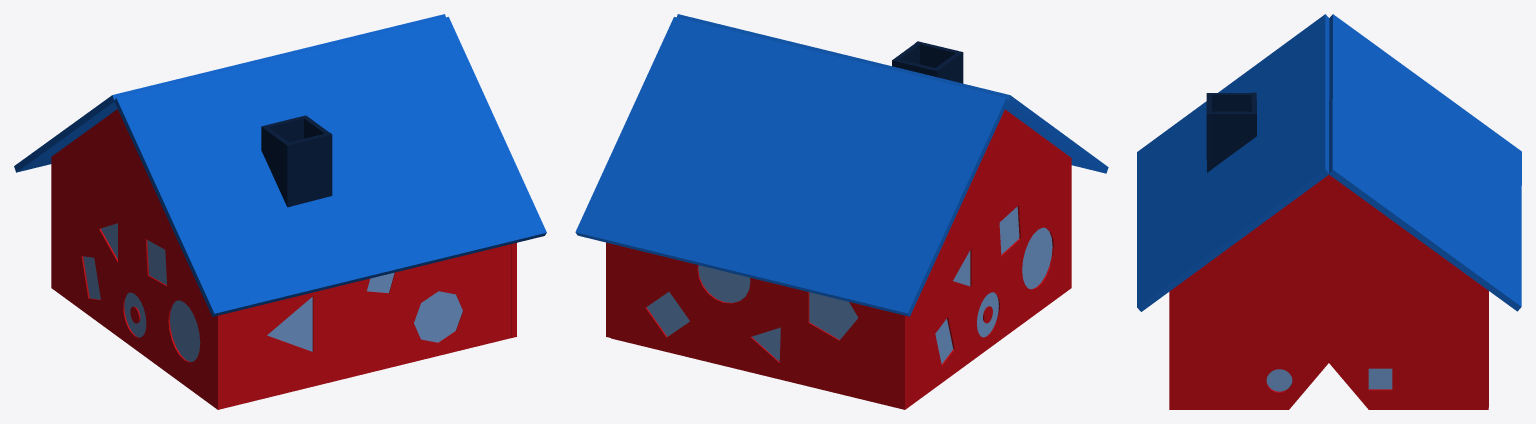
File: geometry_hus.obj
3 views of the same model, side by side, from view 1: azimuth 30°, elevation 25°; view 2: azimuth 150°, elevation 25°; view 3: azimuth 270°, elevation 25° (orthographic). The views are drawn at different scales.
Visible parts, largest first — view 1: tak_1, baksiden_av_huset, side_av_huset_2, Vindu2, Vindu, tak_2, røykpipe_2, røykpipe_1, røykpipe_4, fromt_av_huset; view 2: tak_2, baksiden_av_huset, side_av_huset_1, vindu5, Vindu, tak_1, røykpipe_2, røykpipe_1; view 3: fromt_av_huset, tak_2, tak_1, røykpipe_3, røykpipe_1, vindu4, røykpipe_2, vimdu3.
Part boxes in pixels (left/top/right/bottom): tak_1: left=114, top=17, right=546, bottom=316; baksiden_av_huset: left=51, top=109, right=223, bottom=409; side_av_huset_2: left=223, top=244, right=511, bottom=408; Vindu2: left=267, top=272, right=462, bottom=351; Vindu: left=83, top=223, right=200, bottom=361; tak_2: left=14, top=14, right=445, bottom=172; røykpipe_2: left=289, top=132, right=332, bottom=205; røykpipe_1: left=264, top=127, right=291, bottom=207; røykpipe_4: left=261, top=116, right=303, bottom=155; fromt_av_huset: left=511, top=243, right=516, bottom=337; tak_2: left=575, top=17, right=1008, bottom=316; baksiden_av_huset: left=899, top=109, right=1071, bottom=409; side_av_huset_1: left=611, top=244, right=899, bottom=408; vindu5: left=646, top=265, right=858, bottom=361; Vindu: left=935, top=206, right=1052, bottom=363; tak_1: left=677, top=14, right=1108, bottom=173; røykpipe_2: left=915, top=41, right=958, bottom=67; røykpipe_1: left=935, top=51, right=963, bottom=83; fromt_av_huset: left=1169, top=175, right=1488, bottom=409; tak_2: left=1329, top=14, right=1521, bottom=311; tak_1: left=1137, top=14, right=1329, bottom=311; røykpipe_3: left=1212, top=111, right=1256, bottom=168; røykpipe_1: left=1206, top=93, right=1251, bottom=111; vindu4: left=1368, top=368, right=1392, bottom=389; røykpipe_2: left=1206, top=95, right=1212, bottom=172; vimdu3: left=1266, top=369, right=1292, bottom=391.
Size of the model in its own units: 16.36 by 12.11 by 17.1.
